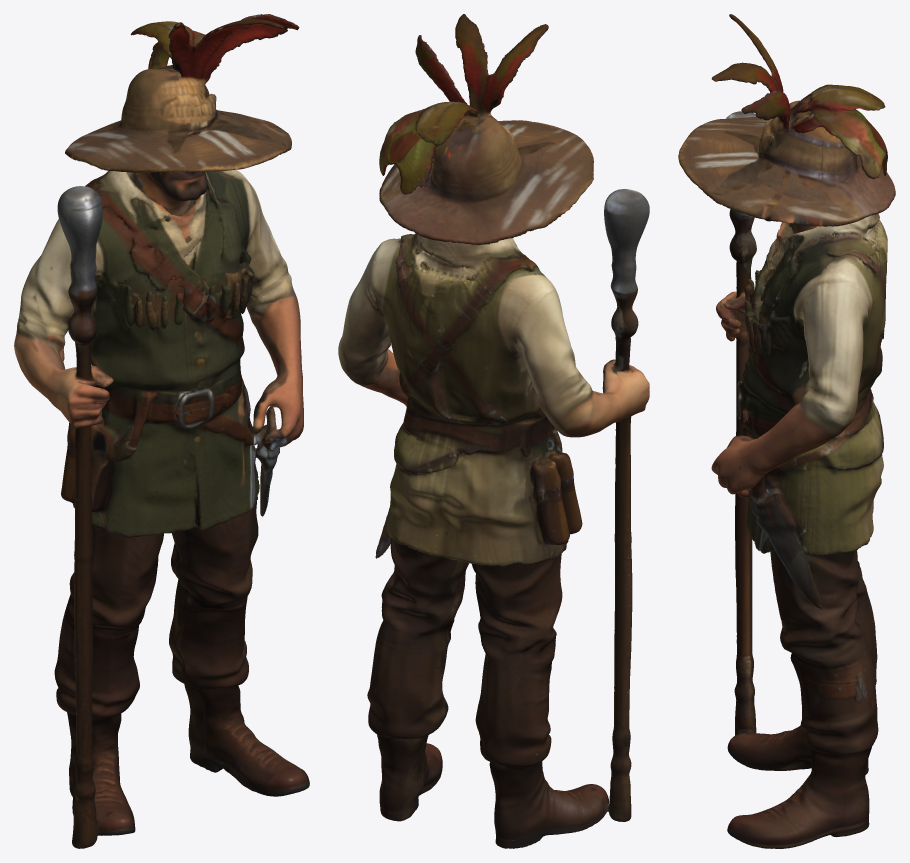
File: Classic_NPC_s_that_go_1030015158_texture.fbx
3 views of the same model, side by side, from view 1: azimuth 30°, elevation 25°; view 2: azimuth 150°, elevation 25°; view 3: azimuth 270°, elevation 25° (orthographic). The views are drawn at different scales.
Visible parts, largest first — view 1: Mesh1.0; view 2: Mesh1.0; view 3: Mesh1.0.
Boxes of the visible parts, x1,y1,x2,y2 form: Mesh1.0: (14,14,309,848); Mesh1.0: (338,14,649,848); Mesh1.0: (678,14,895,848).
Size of the model in its own units: 71.79 by 201 by 51.29.
1 material, 1 textured.
